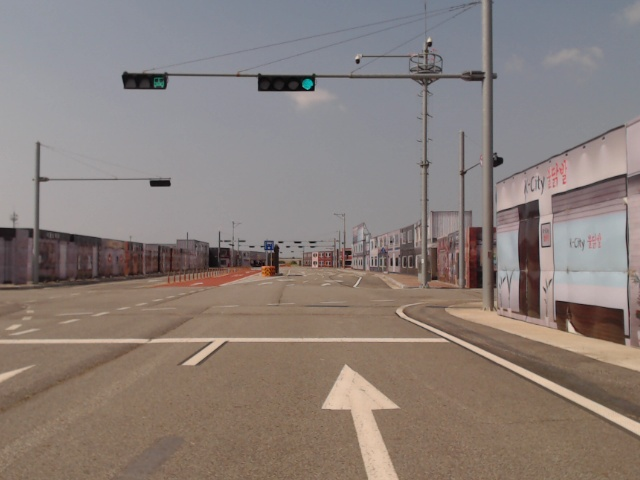straight_green_4: (257, 74, 317, 91)
